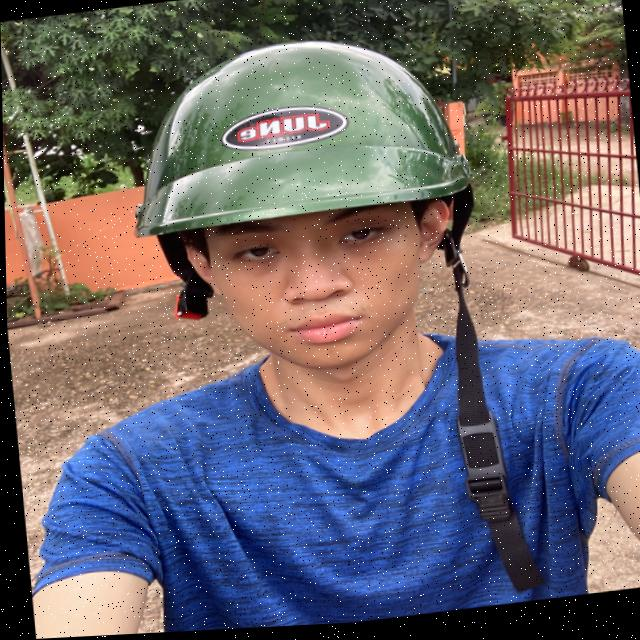illegal_helmet: (108, 11, 549, 636)
